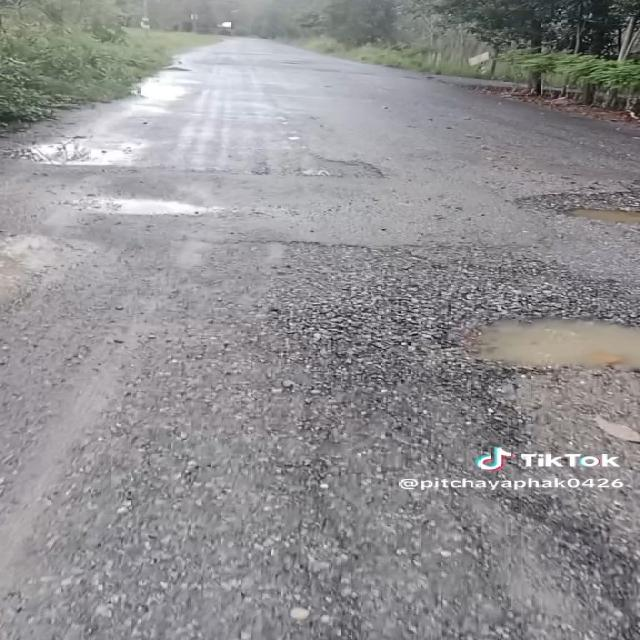Poth-hole: (485, 162, 640, 282)
